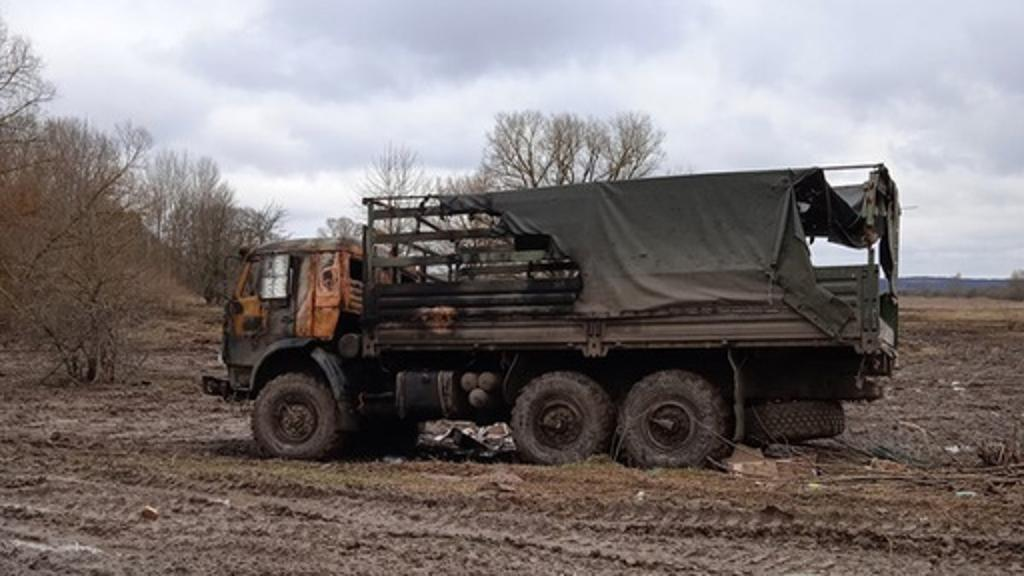TRUCK: (182, 154, 900, 476)
